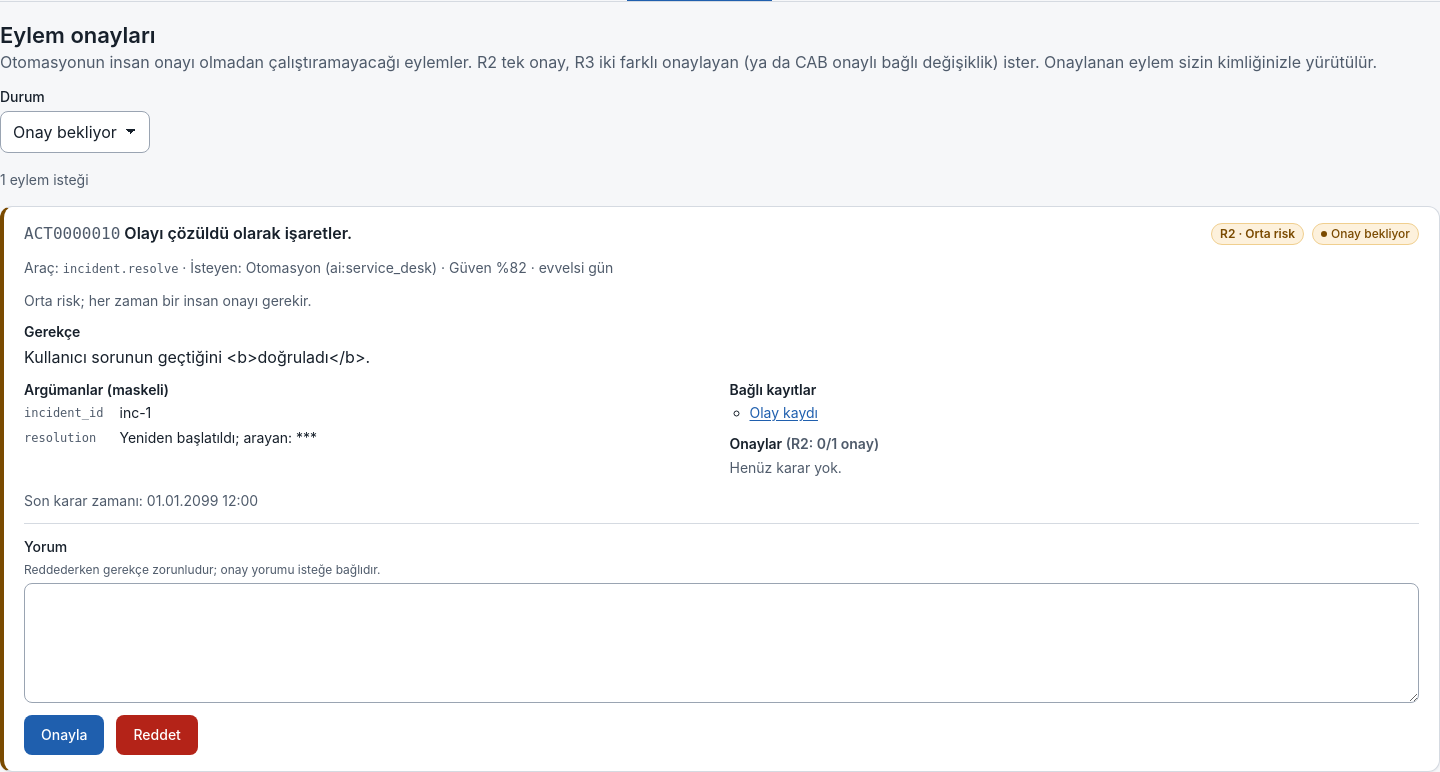
/onaylar — Eylem onayları sekmesi › 409 (süresi doldu / karar beklemiyor) hata bildirimi gösterir
The width and height of the screenshot is (1440, 772).
(page scrolled)
Click the button "Onayla" at point(64, 735), box [24, 715, 104, 755]
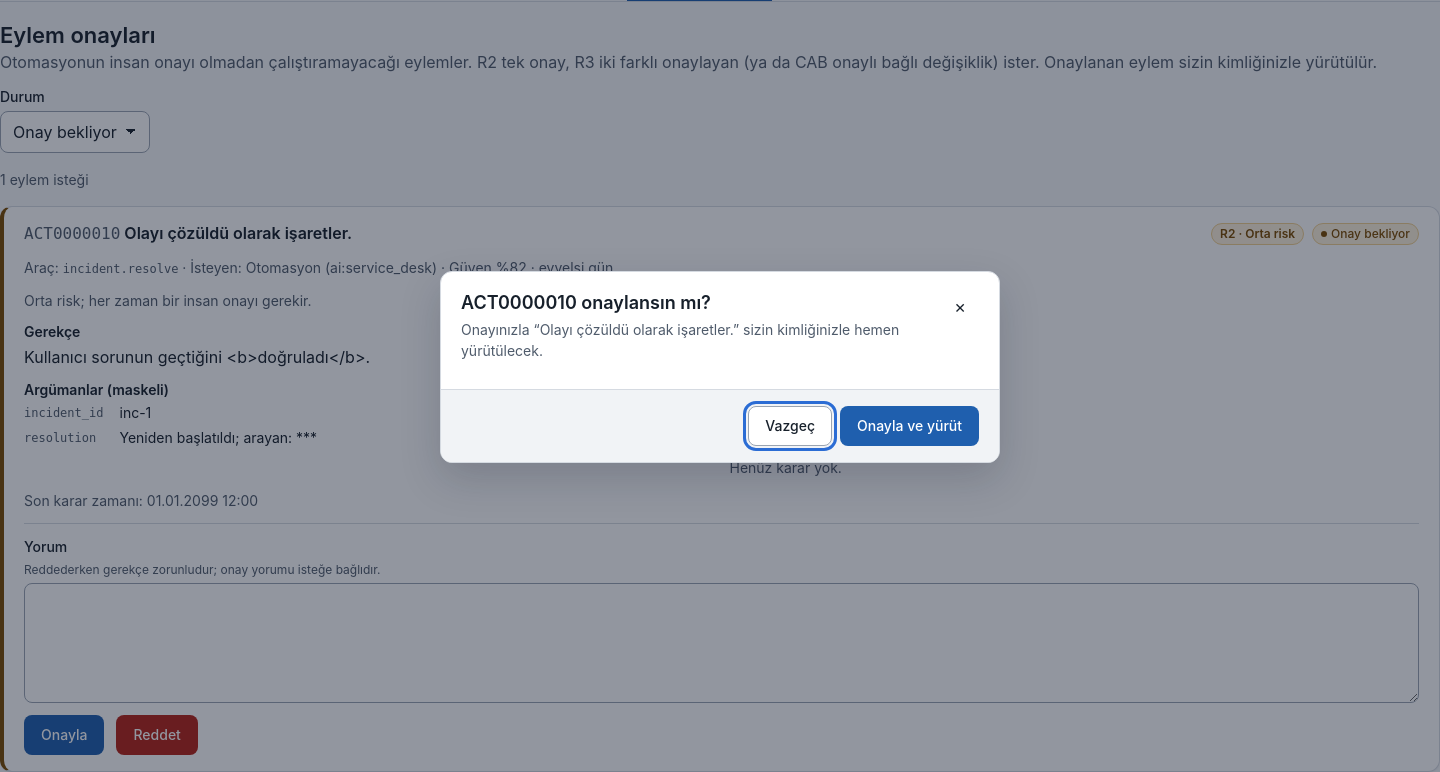
Click the button "Onayla ve yürüt" at point(910, 426), box [840, 406, 979, 446]
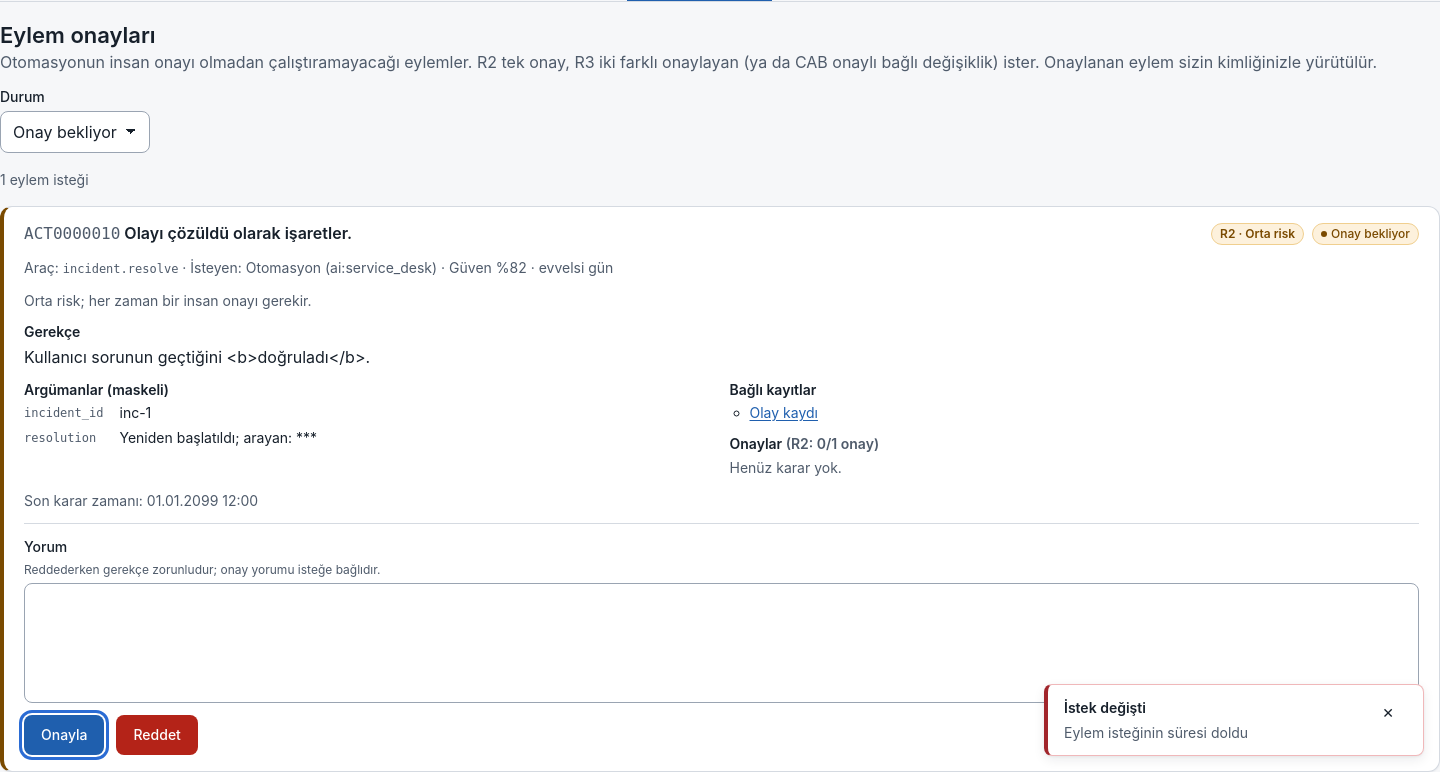
Result: the text "İstek değişti" is shown at [1064, 699, 1146, 716]
Result: the text "Eylem isteğinin süresi doldu" is shown at [1064, 724, 1248, 741]
